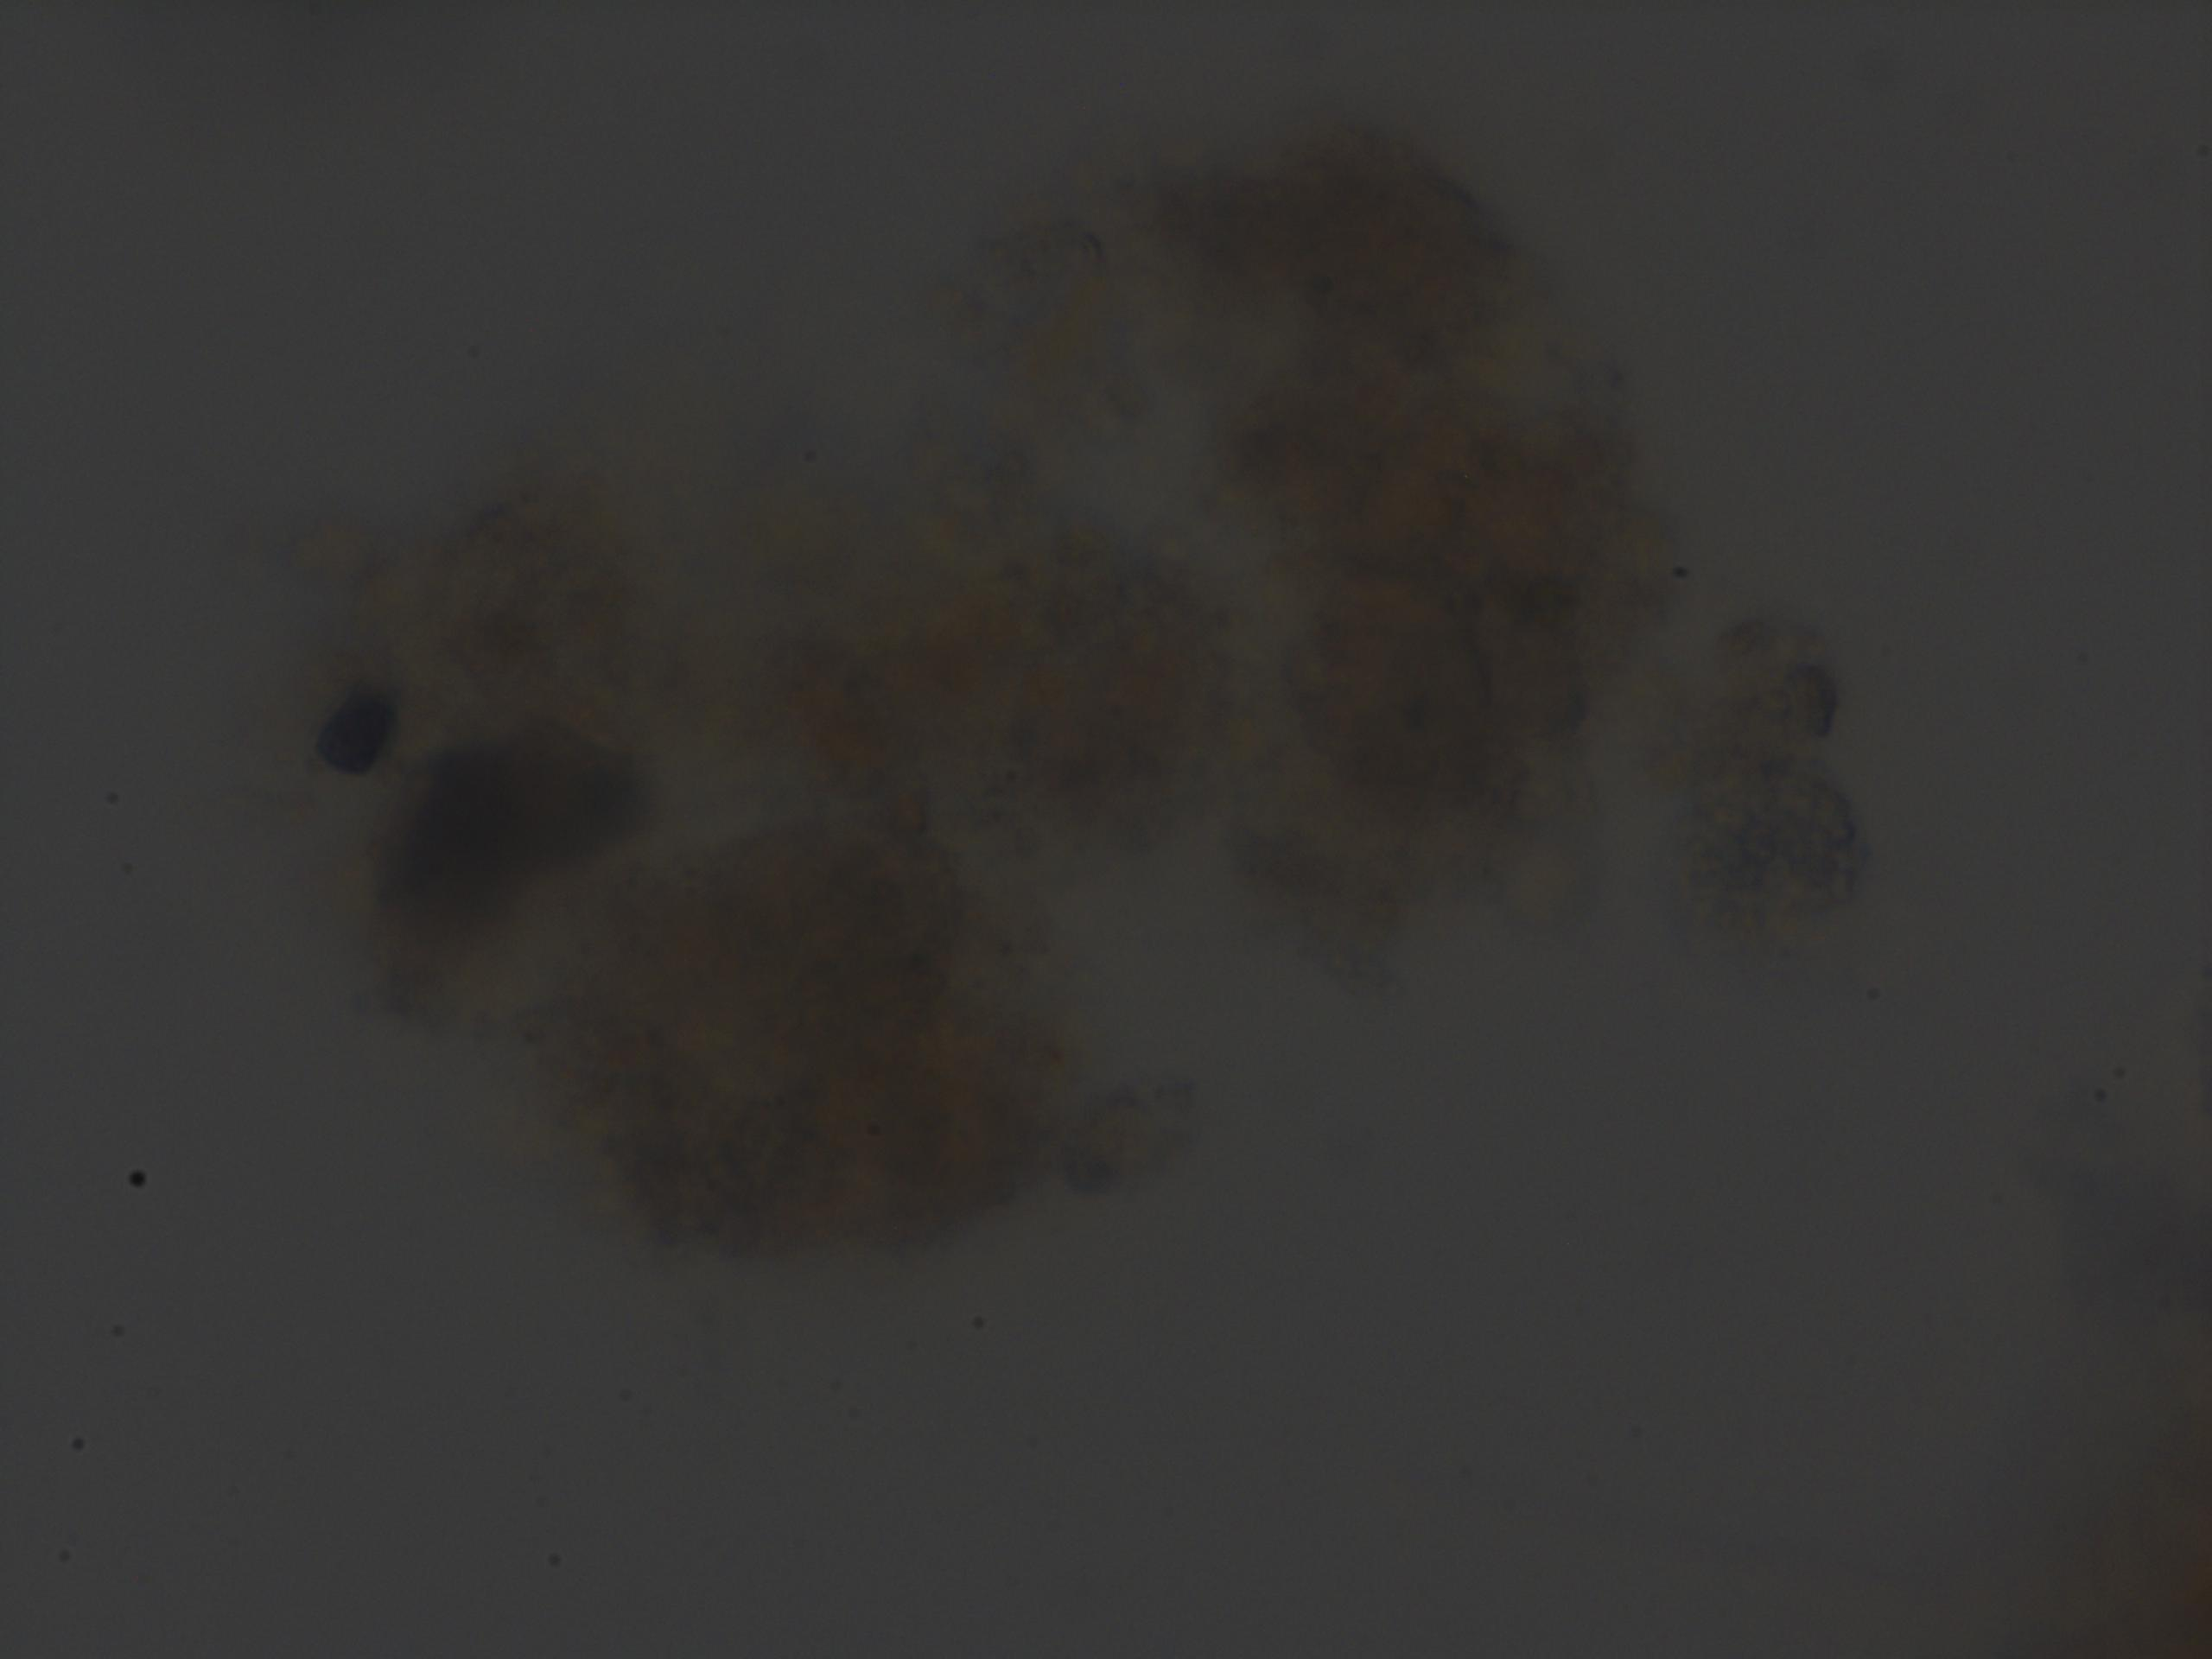open_floc: (275, 98, 1663, 1288)
